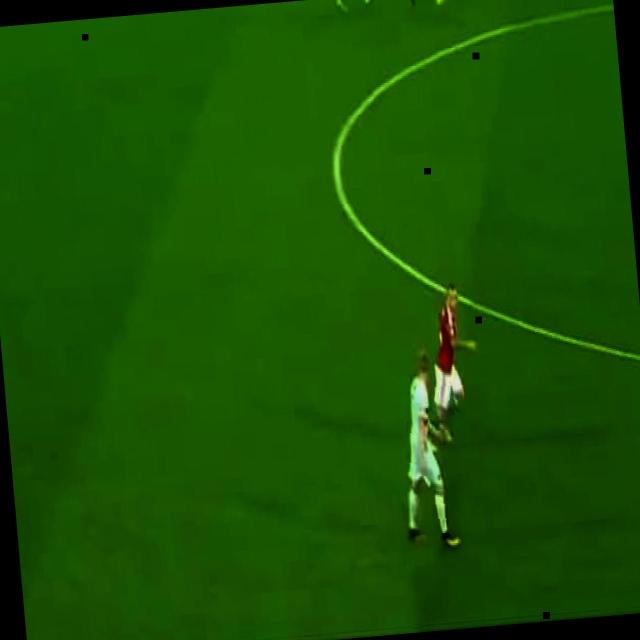player-white: (393, 348, 461, 552), (424, 282, 484, 443), (334, 0, 374, 16), (408, 0, 446, 6)
